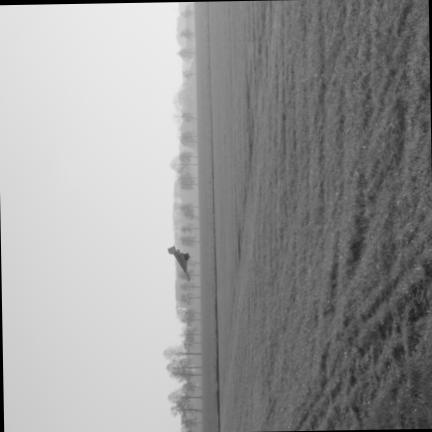Shahed: (167, 245, 188, 279)
